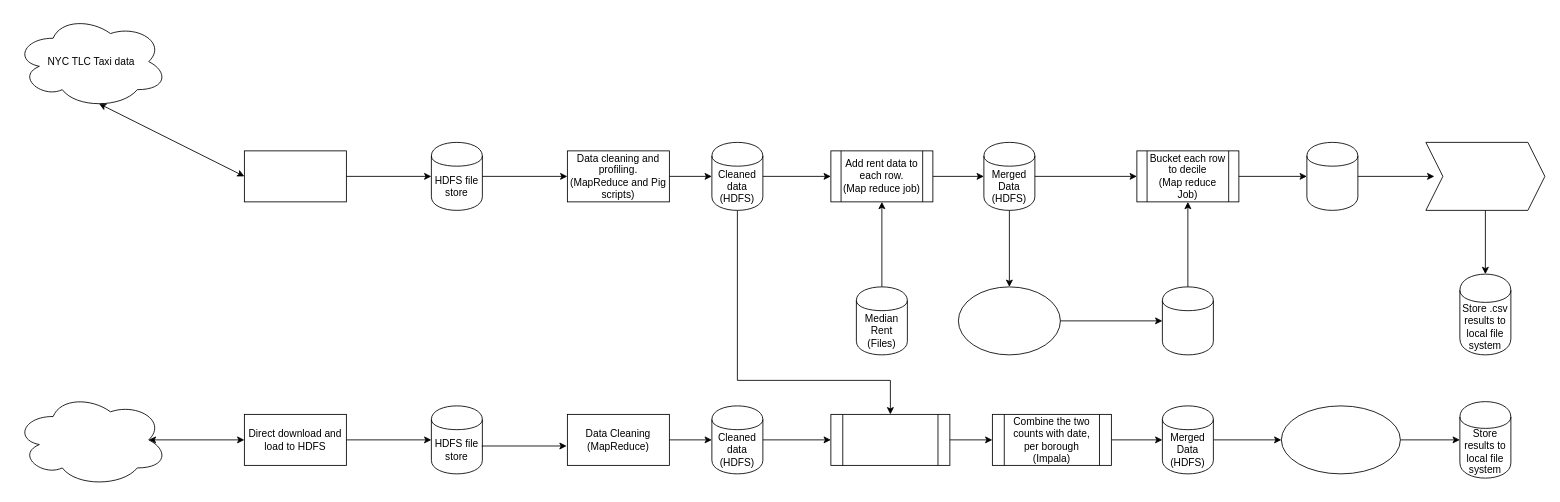
This 1560x502 diagram has some shape labels left out. Here are the shapes that lost their labels. From the top down, the box of each, then its label:
(244, 150, 346, 202): Data Loader (Python Script)
(1306, 142, 1358, 210): Final data (Load to impala)
(1425, 142, 1545, 210): Run analytics using impala
(958, 286, 1060, 355): Find pickup and dropoff deciles (Spark Job)
(1162, 286, 1213, 355): Store deciles to file
(14, 392, 168, 487): Traffic Violations Data
(830, 414, 950, 465): Group by months and count the number of trips and violations (Impala)
(1281, 405, 1400, 474): Load data to Spark and find correlations (Spark Job)
